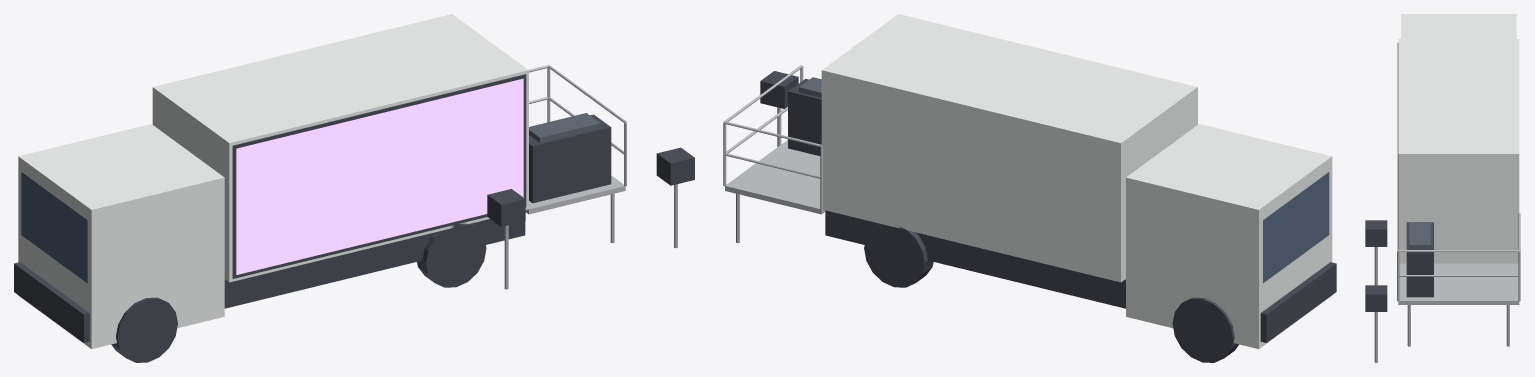
Rendered from SM_Camion_1.glb.
The picture shows the model from 3 angles, left to right: view 1: azimuth 30°, elevation 25°; view 2: azimuth 150°, elevation 25°; view 3: azimuth 270°, elevation 25°; orthographic projection. The views are drawn at different scales.
Visible parts, largest first — view 1: SM_Camion_1_26, SM_Camion_1_0, SM_Camion_1_3, SM_Camion_1_2, SM_Camion_1_19, SM_Camion_1_1, SM_Camion_1_25, SM_Camion_1_7, SM_Camion_1_5, SM_Camion_1_20, SM_Camion_1_24, SM_Camion_1_22 (+1 smaller); view 2: SM_Camion_1_3, SM_Camion_1_0, SM_Camion_1_2, SM_Camion_1_1, SM_Camion_1_8, SM_Camion_1_6, SM_Camion_1_4, SM_Camion_1_19, SM_Camion_1_24; view 3: SM_Camion_1_3, SM_Camion_1_8, SM_Camion_1_0, SM_Camion_1_19, SM_Camion_1_20, SM_Camion_1_22, SM_Camion_1_24, SM_Camion_1_25, SM_Camion_1_16, SM_Camion_1_15, SM_Camion_1_23, SM_Camion_1_9 (+4 smaller).
Boxes of the visible parts, x1,y1,x2,y2 form: SM_Camion_1_26: (236,78,523,274); SM_Camion_1_0: (18,124,224,348); SM_Camion_1_3: (152,14,528,282); SM_Camion_1_2: (14,219,525,342); SM_Camion_1_19: (529,114,611,203); SM_Camion_1_1: (21,172,87,283); SM_Camion_1_25: (232,74,526,278); SM_Camion_1_7: (417,223,486,287); SM_Camion_1_5: (111,297,177,362); SM_Camion_1_20: (529,113,600,142); SM_Camion_1_24: (656,147,694,185); SM_Camion_1_22: (487,189,525,226); SM_Camion_1_3: (821,14,1197,282); SM_Camion_1_0: (1126,124,1332,349); SM_Camion_1_2: (825,210,1336,342); SM_Camion_1_1: (1263,172,1329,283); SM_Camion_1_8: (725,140,825,214); SM_Camion_1_6: (864,223,933,287); SM_Camion_1_4: (1172,297,1238,362); SM_Camion_1_19: (788,78,821,155); SM_Camion_1_24: (760,71,798,108); SM_Camion_1_3: (1398,39,1519,263); SM_Camion_1_8: (1398,263,1519,304); SM_Camion_1_0: (1401,14,1516,38); SM_Camion_1_19: (1406,222,1433,297); SM_Camion_1_20: (1409,222,1431,248); SM_Camion_1_22: (1365,220,1387,246); SM_Camion_1_24: (1365,285,1387,311); SM_Camion_1_25: (1397,43,1398,250); SM_Camion_1_16: (1398,250,1519,251); SM_Camion_1_15: (1399,275,1518,276); SM_Camion_1_23: (1374,312,1377,362); SM_Camion_1_9: (1506,305,1509,346).
Size of the model in its own units: 9.7 by 3.15 by 2.82.
